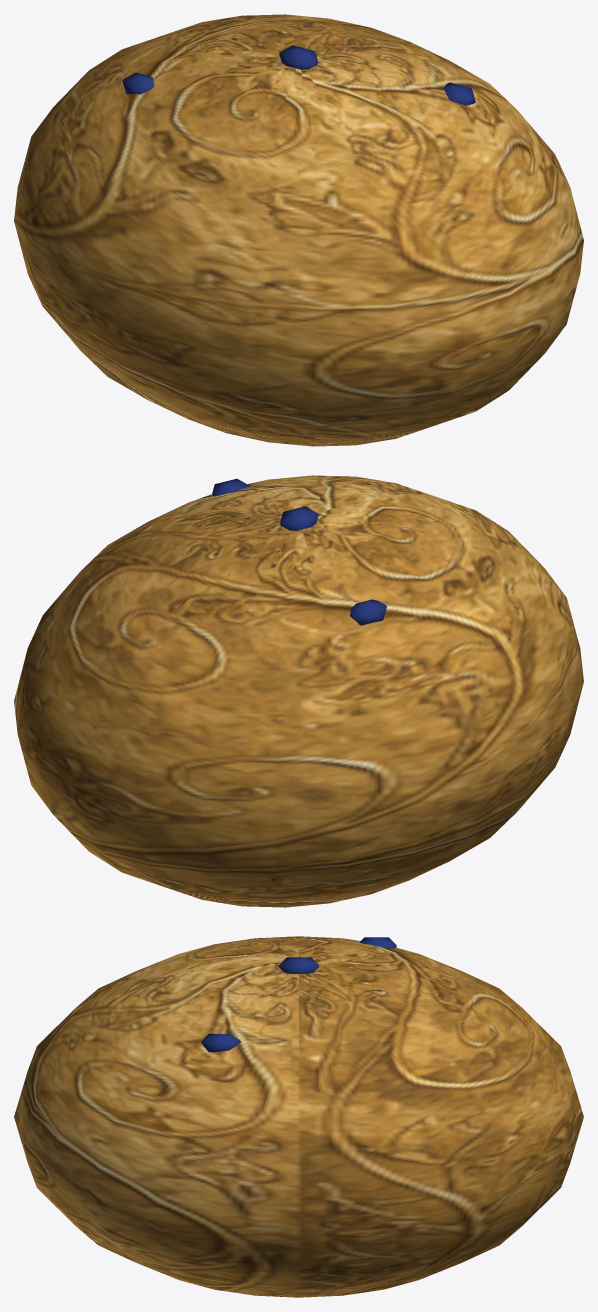
Rendered from item_jewelegg.glb.
3 renders of one model, top to bottom at view 1: azimuth 30°, elevation 25°; view 2: azimuth 150°, elevation 25°; view 3: azimuth 270°, elevation 25°, orthographic. The views are drawn at different scales.
Parts seen in each view (by area): view 1: props_jewelegg; view 2: props_jewelegg; view 3: props_jewelegg.
Part boxes in pixels (box(x1,y1,x2,y2)): props_jewelegg: box(14, 14, 583, 446); props_jewelegg: box(14, 475, 583, 907); props_jewelegg: box(14, 936, 583, 1297).
Bounding box in the file's own units: 0.92 × 0.658 × 1.1.
Materials: 2 (1 with a texture image).
